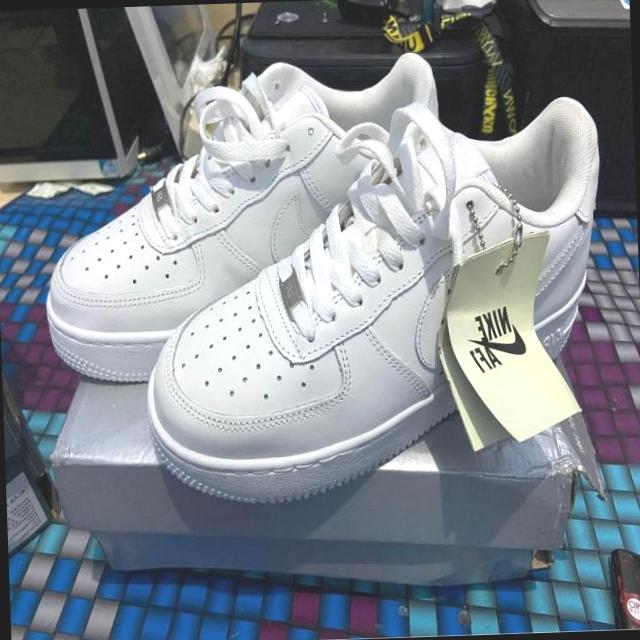nike_fake_airforce: (130, 97, 613, 506), (29, 51, 452, 387)
